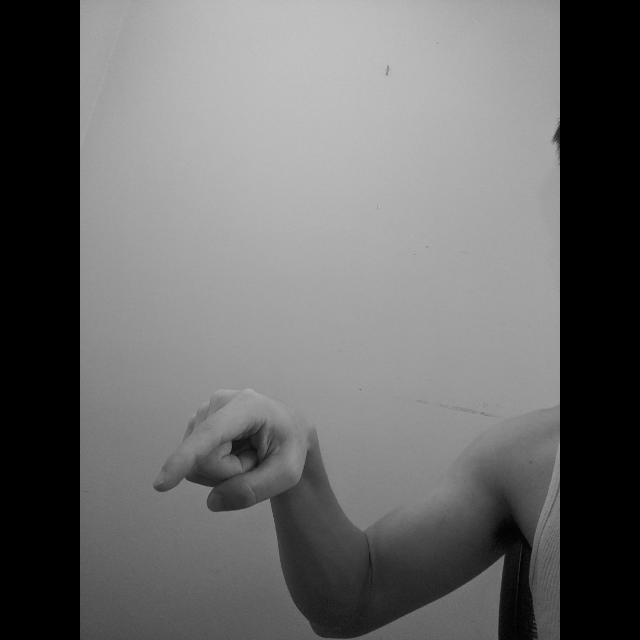Z: (147, 384, 316, 518)
